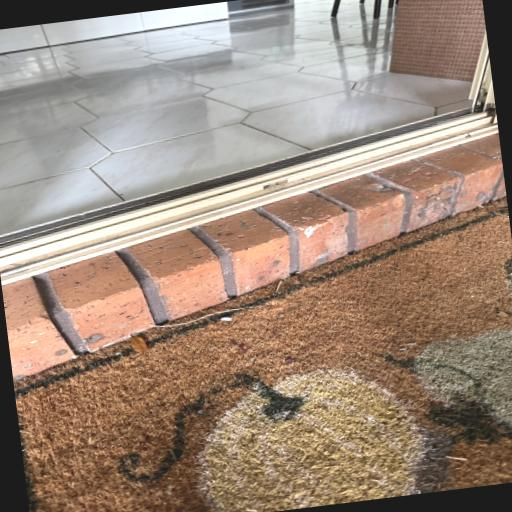step: (0, 114, 507, 378)
